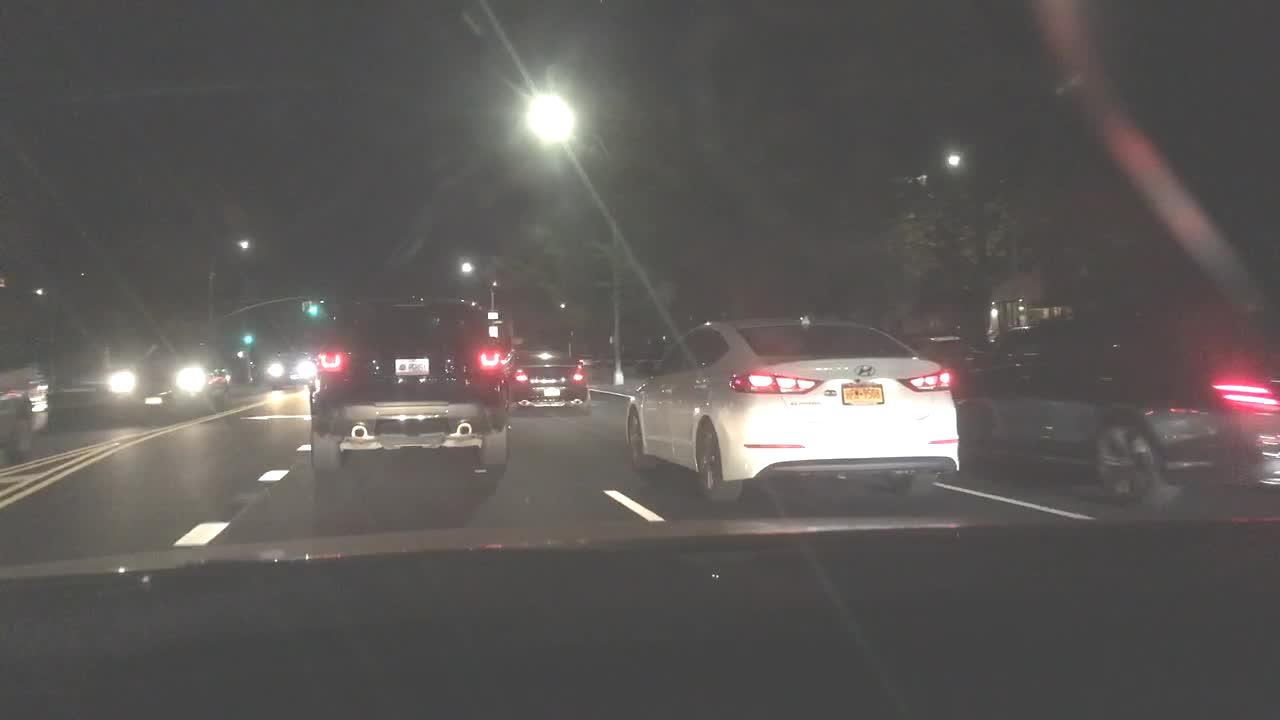Hyundai: (850, 360, 880, 381)
